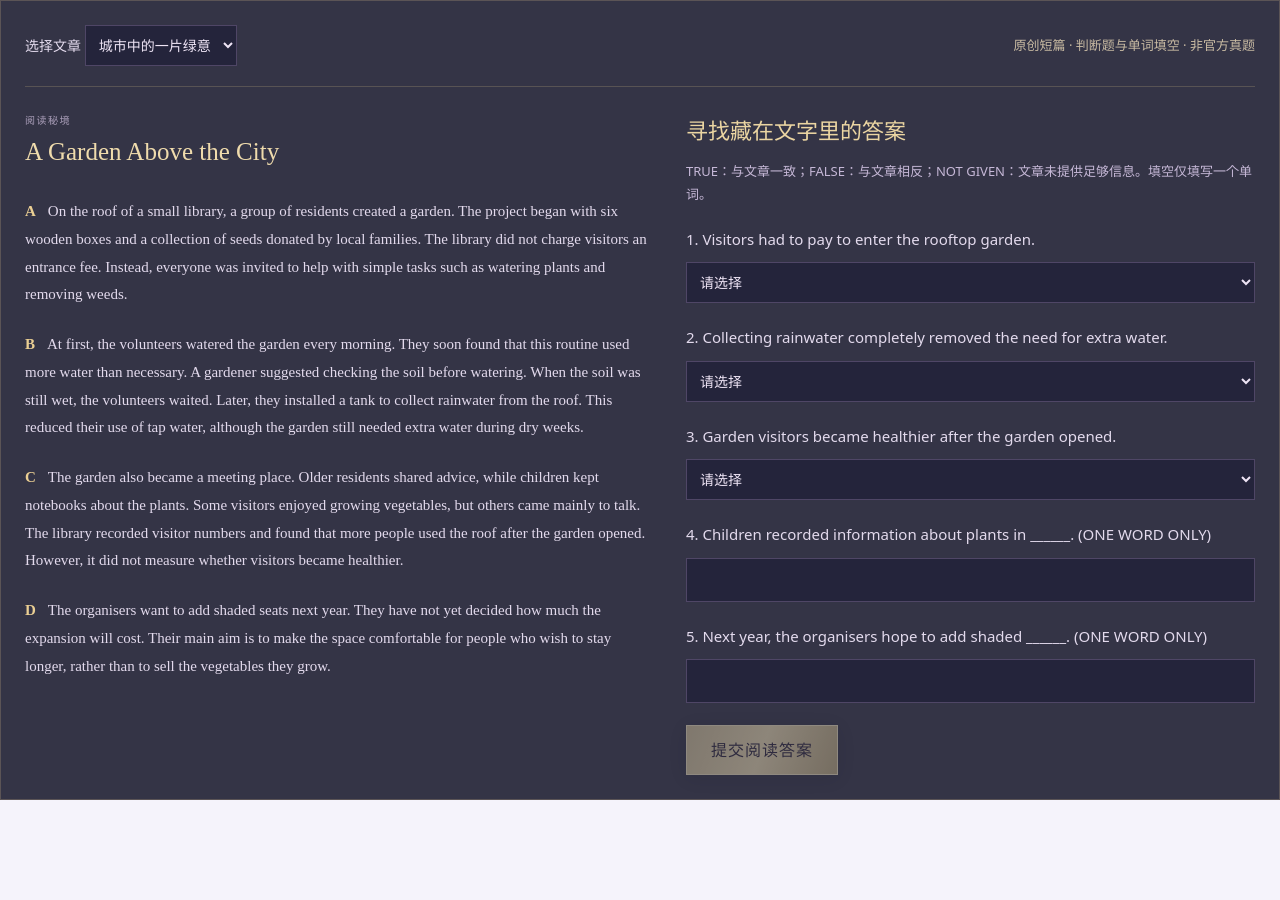
Scenario: public original reading practice › requires all answers, grades the submitted answers and preserves one reward per submission
Check: the button "提交阅读答案" is disabled, box left=686, top=725, right=838, bottom=775
Step 1. Select "FALSE" in the dropdown named "阅读答案 1" → (970, 283), box left=686, top=262, right=1255, bottom=303
Step 2. Select "FALSE" in the dropdown named "阅读答案 2" → (970, 381), box left=686, top=361, right=1255, bottom=402
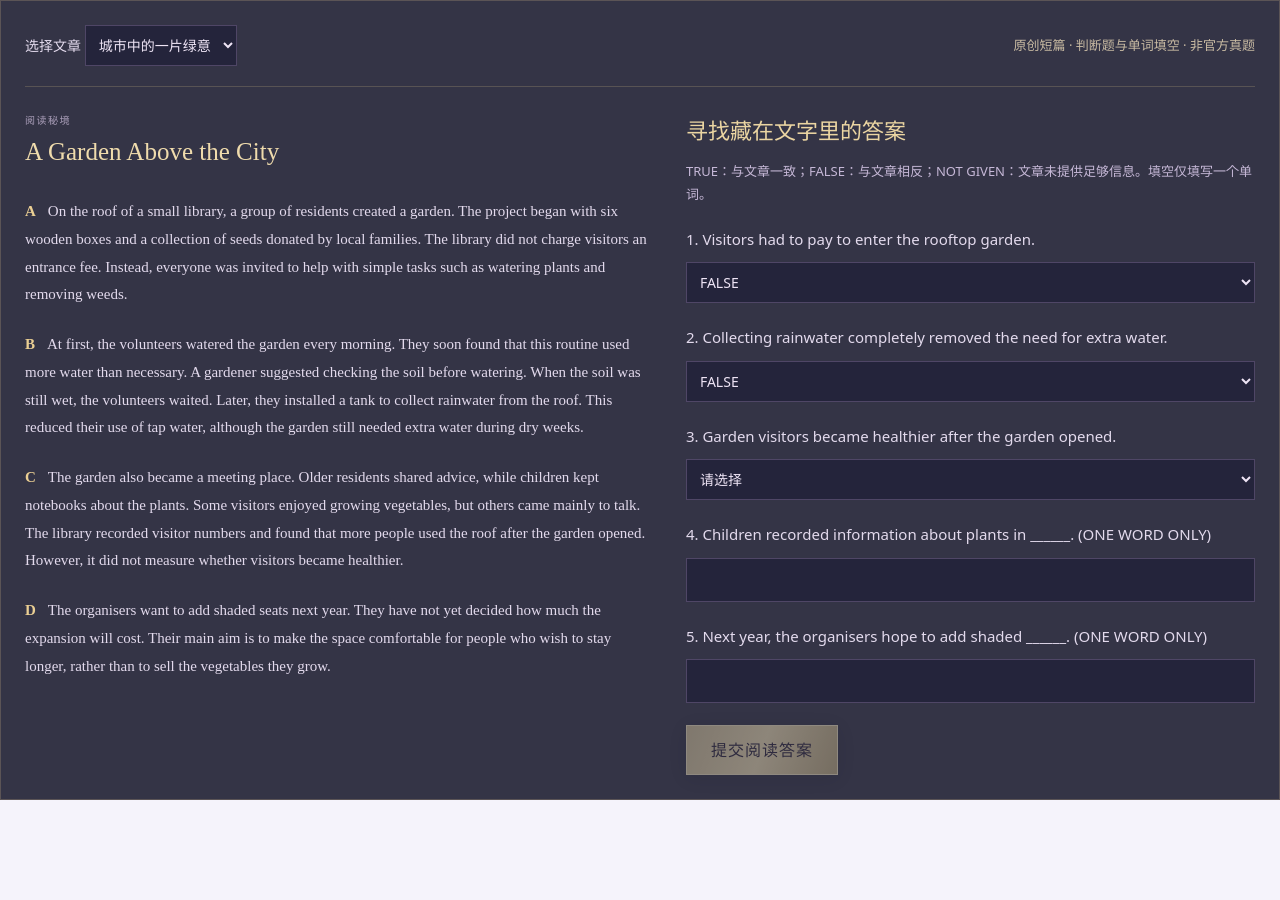
Step 3. Select "NOT GIVEN" in the dropdown labelled "3. Garden visitors became healthier after the garden opened." → (970, 480), box left=686, top=459, right=1255, bottom=500
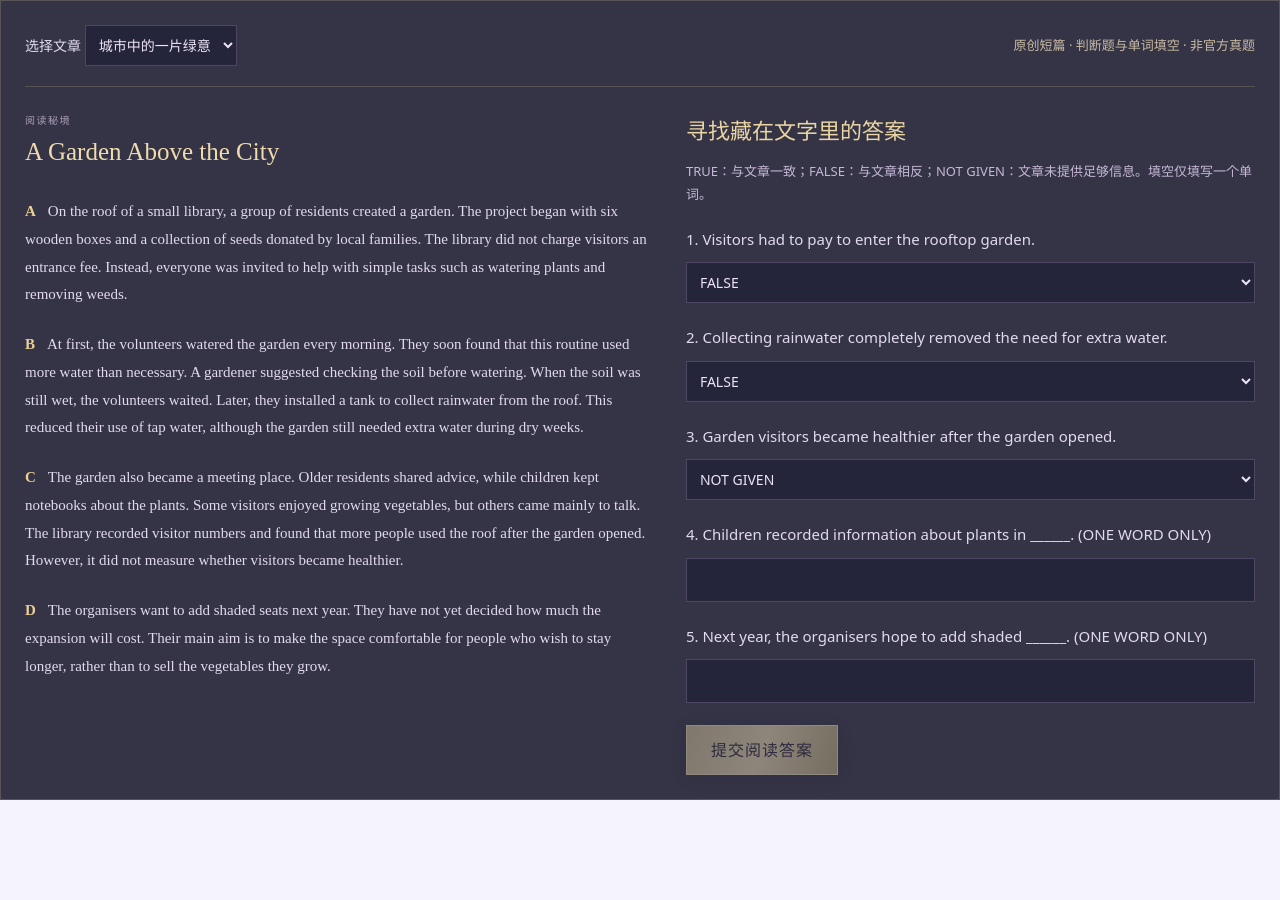
Step 4. Type " NOTEBOOKS " into the field named "阅读答案 4" → (970, 580), box left=686, top=558, right=1255, bottom=602
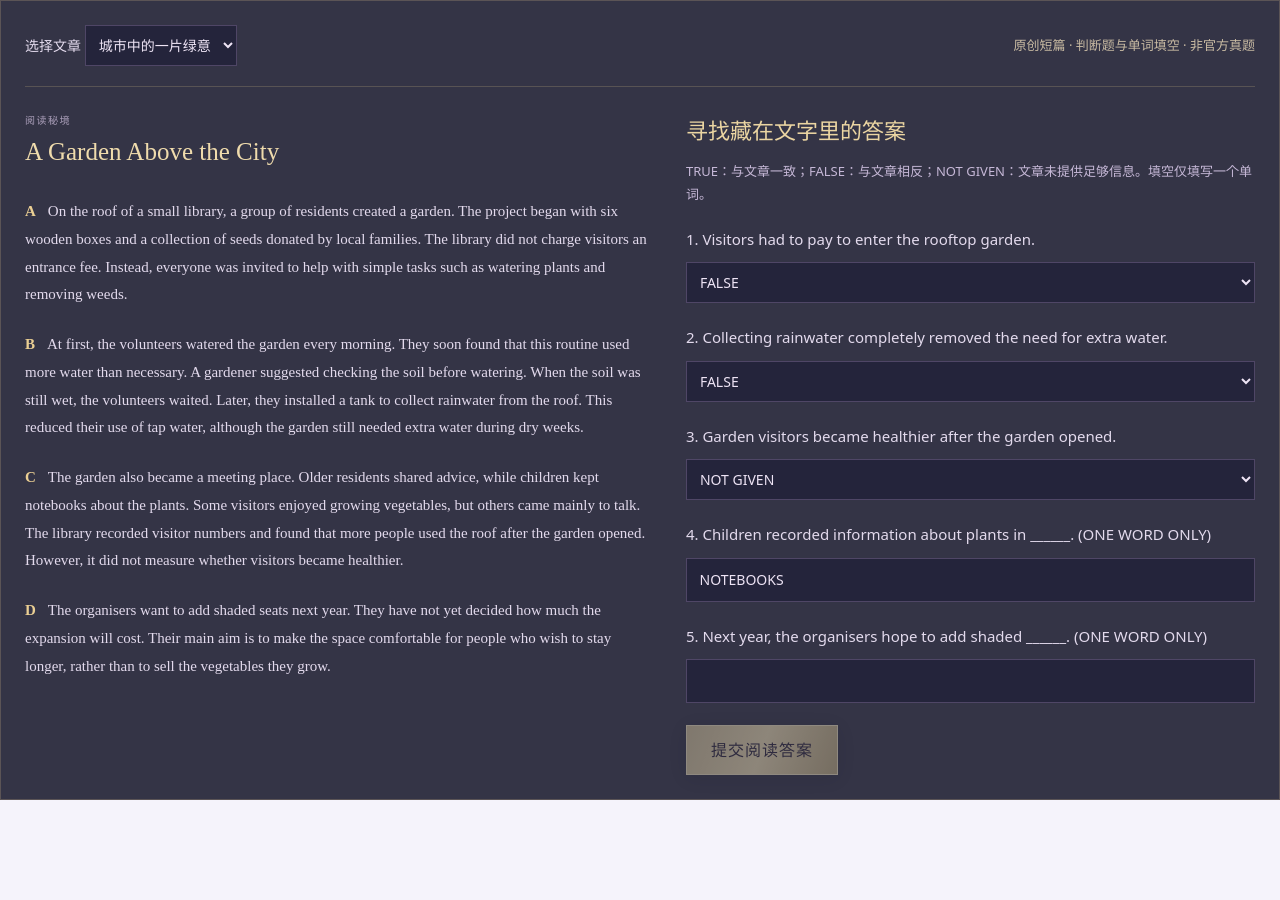
Step 5. Type "wrong" into the field named "阅读答案 5" → (970, 681), box left=686, top=659, right=1255, bottom=703
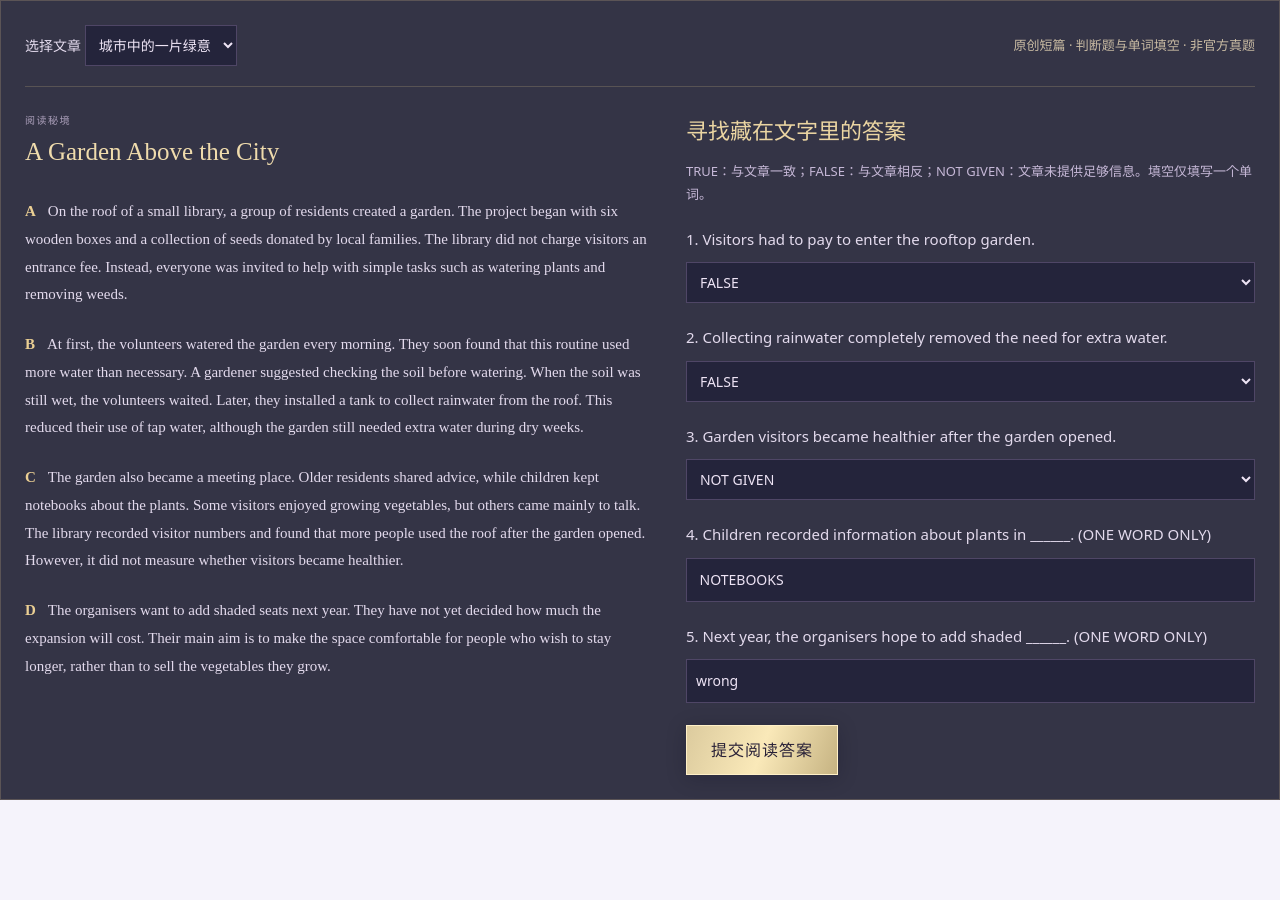
Step 6. Click the button "提交阅读答案" → (762, 750), box left=686, top=725, right=838, bottom=775
(page scrolled)
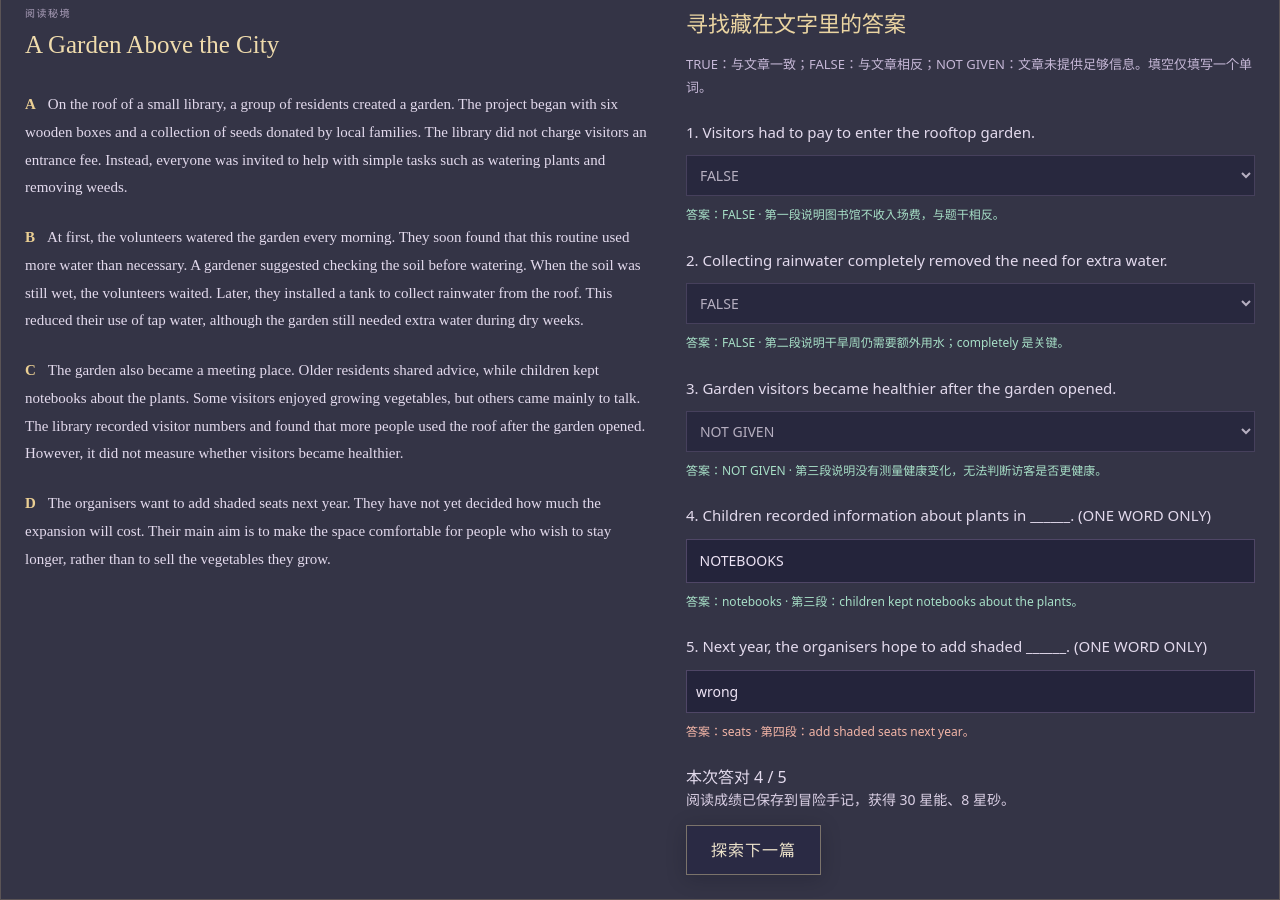
Check: the heading "本次答对 4 / 5" is shown, box left=686, top=766, right=787, bottom=788
Check: the dropdown named "阅读答案 1" is disabled, box left=686, top=155, right=1255, bottom=196
Step 7. Click the button "探索下一篇" → (753, 850), box left=686, top=825, right=821, bottom=875
(page scrolled)
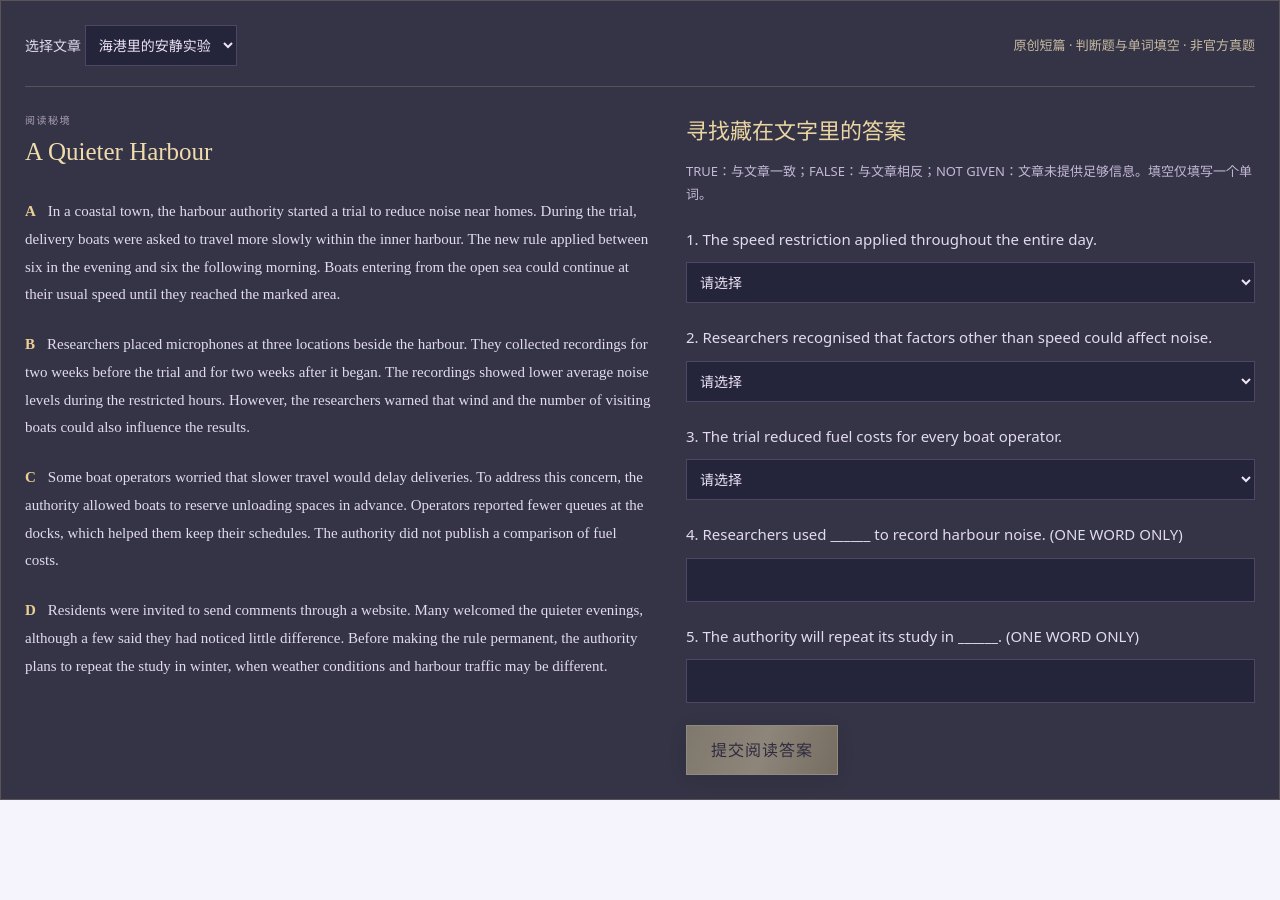
Check: the heading "A Quieter Harbour" is shown, box left=25, top=138, right=212, bottom=165
